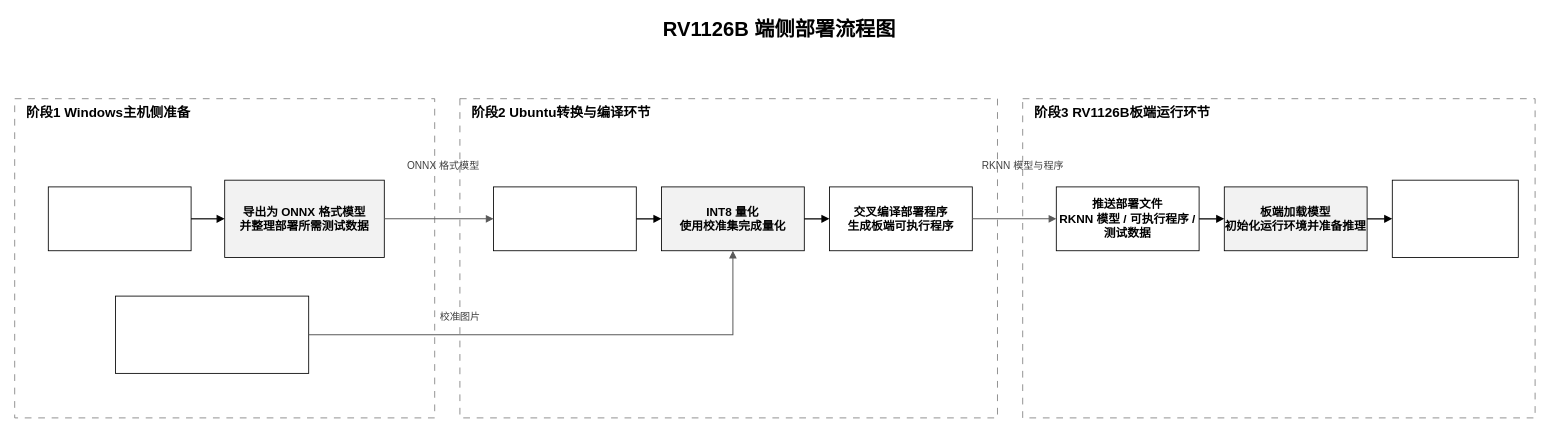
Some shapes in this 1550 by 433 pixel diagram are drawn without their labels. Here are the shapes that lost their labels. From the top down, the centre of each, then its label:
At [119,218]: "模型训练结果 exp07 EIoU / exp09 Ghost+EIoU".
At [564,218]: "模型格式转换 ONNX 格式 → RKNN 格式".
At [1454,218]: "板端推理与跟踪 输出结果图像、视频与统计日志".
At [212,334]: "校准数据准备 FLIR 验证集 150 张，多场景覆盖".
